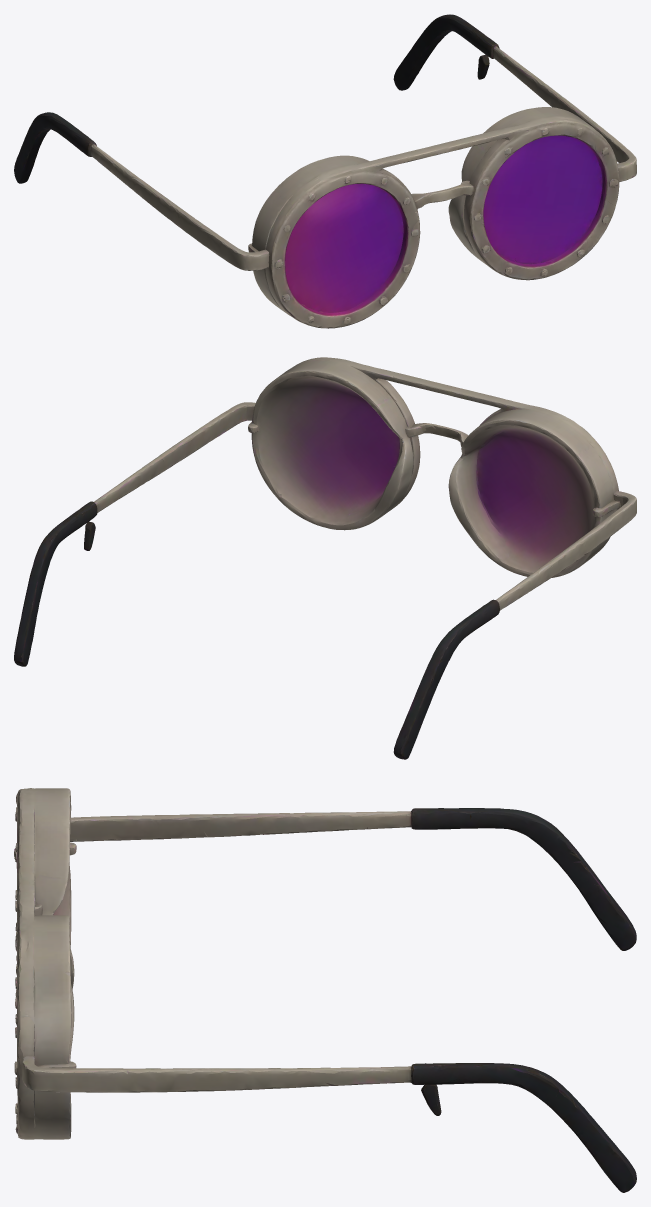
File: rebite-roxo-05a24578cb3e.glb
3 views of the same model, one above another, from view 1: azimuth 30°, elevation 25°; view 2: azimuth 150°, elevation 25°; view 3: azimuth 270°, elevation 25° (orthographic). The views are drawn at different scales.
Visible parts, largest first — view 1: Mesh; view 2: Mesh; view 3: Mesh.
Boxes of the visible parts, box(x1,y1,x2,y2) form: Mesh: box(14, 14, 636, 328); Mesh: box(14, 357, 636, 759); Mesh: box(14, 788, 636, 1192).
Size of the model in its own units: 1.89 by 0.6997 by 1.9.
Materials: 1 (1 with a texture image).
